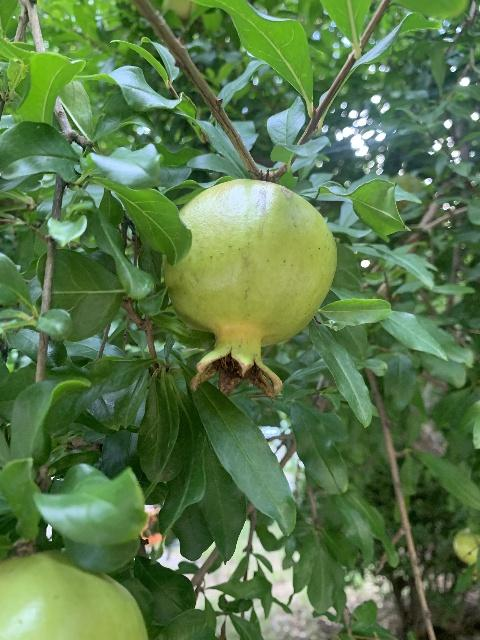mid-growth: (164, 178, 337, 401)
